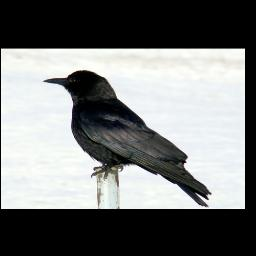Crow: (41, 69, 213, 208)
